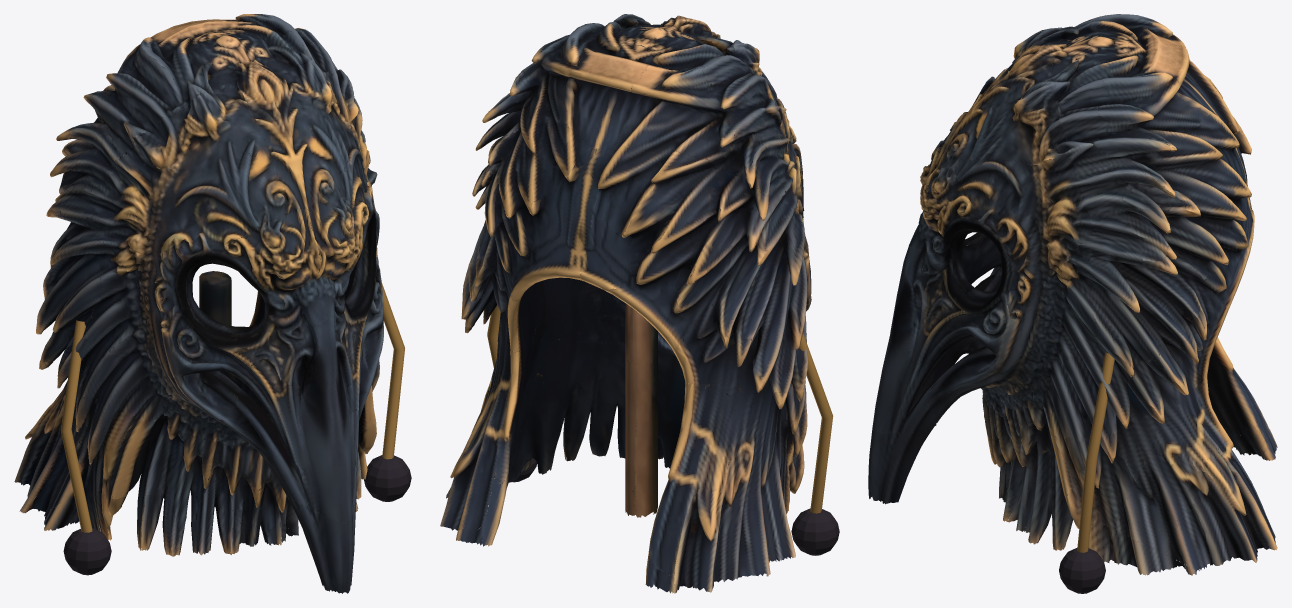
File: mask-raven-mourning.glb
3 views of the same model, side by side, from view 1: azimuth 30°, elevation 25°; view 2: azimuth 150°, elevation 25°; view 3: azimuth 270°, elevation 25° (orthographic). The views are drawn at different scales.
Visible parts, largest first — view 1: Banquet_Mask_Raven_Mourning_Mesh_01, Mourning_Raven_Chain_L, Mourning_Raven_Chain_R, Mourning_Raven_Bead_L, Mourning_Raven_Bead_R; view 2: Banquet_Mask_Raven_Mourning_Mesh_01, Mourning_Raven_Chain_L, Mourning_Raven_Bead_L; view 3: Banquet_Mask_Raven_Mourning_Mesh_01, Mourning_Raven_Chain_R, Mourning_Raven_Bead_R.
Part boxes in pixels (left/top/right/bottom): Banquet_Mask_Raven_Mourning_Mesh_01: left=14, top=14, right=383, bottom=593; Mourning_Raven_Chain_L: left=60, top=320, right=92, bottom=532; Mourning_Raven_Chain_R: left=381, top=282, right=404, bottom=459; Mourning_Raven_Bead_L: left=63, top=528, right=111, bottom=575; Mourning_Raven_Bead_R: left=364, top=455, right=411, bottom=501; Banquet_Mask_Raven_Mourning_Mesh_01: left=440, top=14, right=811, bottom=593; Mourning_Raven_Chain_L: left=799, top=333, right=833, bottom=513; Mourning_Raven_Bead_L: left=791, top=508, right=839, bottom=555; Banquet_Mask_Raven_Mourning_Mesh_01: left=868, top=14, right=1277, bottom=575; Mourning_Raven_Chain_R: left=1077, top=352, right=1114, bottom=552; Mourning_Raven_Bead_R: left=1059, top=548, right=1105, bottom=593.
Bounding box in the file's own units: 0.4118 × 0.565 × 0.4343.
Materials: 3 (1 with a texture image).
